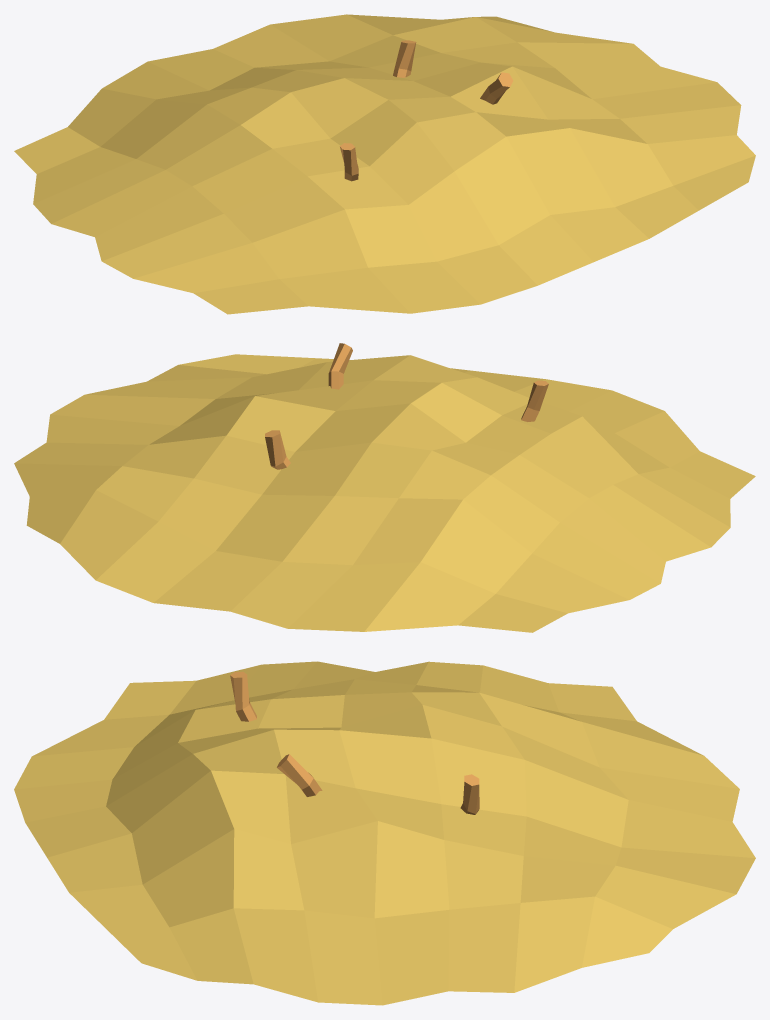
File: sandpuddle04.fbx
The picture shows the model from 3 angles, top to bottom: view 1: azimuth 30°, elevation 25°; view 2: azimuth 150°, elevation 25°; view 3: azimuth 270°, elevation 25°; orthographic projection. The views are drawn at different scales.
Visible parts, largest first — view 1: Circle.007; view 2: Circle.007; view 3: Circle.007.
Part boxes in pixels (x1,y1,x2,y2): Circle.007: (14,14,755,314); Circle.007: (14,343,755,632); Circle.007: (14,661,755,1005).
Bounding box in the file's own units: 2.1 × 0.3234 × 1.91.
